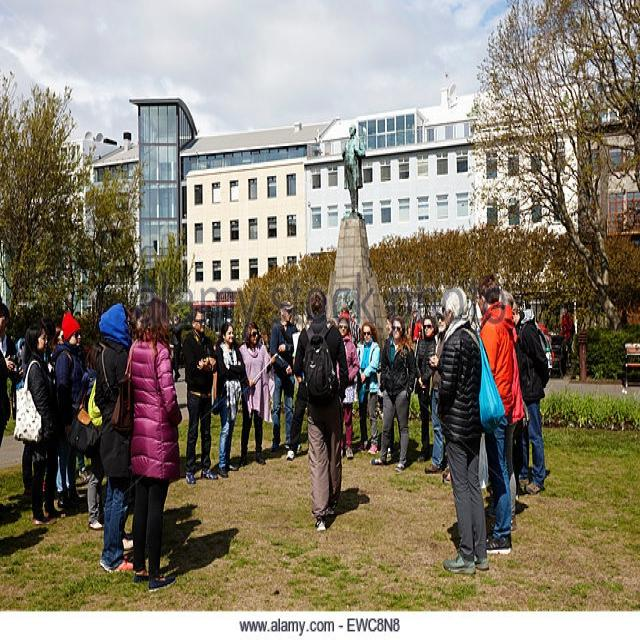body: (108, 292, 186, 594), (428, 281, 507, 578), (291, 285, 350, 531), (474, 271, 516, 557), (93, 300, 137, 572), (10, 320, 65, 528), (0, 452, 92, 562), (489, 286, 526, 534), (49, 308, 92, 515), (510, 296, 554, 497), (67, 345, 108, 534), (369, 313, 417, 474), (180, 303, 221, 484), (159, 500, 241, 584), (237, 319, 277, 470), (212, 321, 248, 481), (267, 298, 302, 455), (423, 305, 453, 485), (377, 312, 410, 461), (0, 295, 30, 454), (284, 308, 314, 462), (412, 314, 441, 466), (333, 309, 361, 461), (352, 319, 382, 458), (339, 119, 368, 226), (321, 484, 371, 531), (38, 310, 64, 372), (167, 312, 185, 384), (124, 301, 150, 345), (169, 309, 184, 384), (406, 300, 422, 350), (410, 308, 422, 352)
